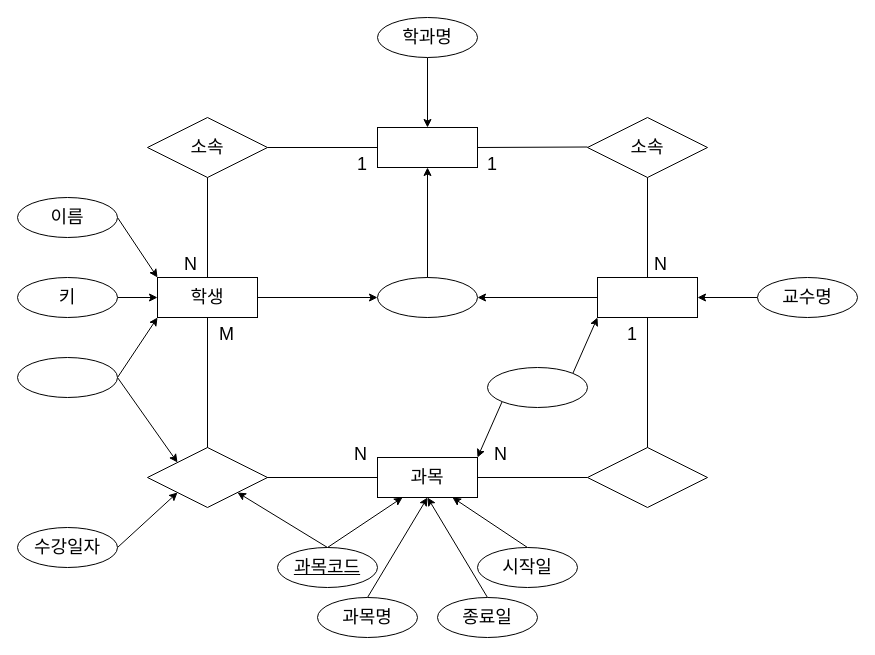
Image size: 875x655. Some labels were removed from this diagram. Here are the shapes that lost their labels. From the top down, the centre of each, then its label:
pixel 427 147: 학과
pixel 427 297: 학과코드
pixel 647 297: 교수
pixel 67 377: 학번
pixel 537 387: 교수코드
pixel 207 477: 수강
pixel 647 477: 지정
